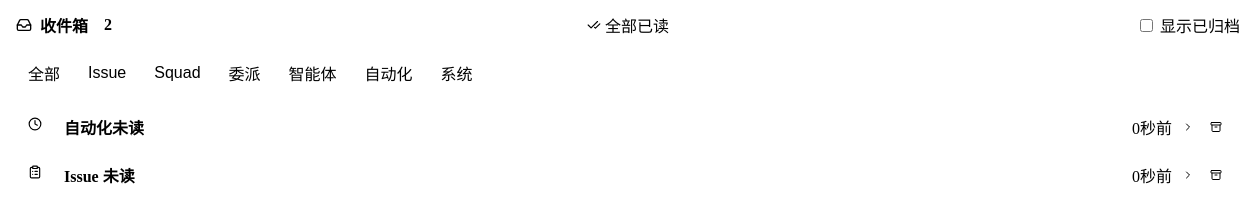
Test: TC-AUDIT-P2-11 收件箱徽标与点击穿透 › 未读徽标按项目整体统计，不随分类筛选变化
expect the text "2" is shown: met, box top-left (104, 16), bottom-right (112, 33)
Click the button "自动化" at (389, 73), box top-left (353, 57), bottom-right (425, 89)
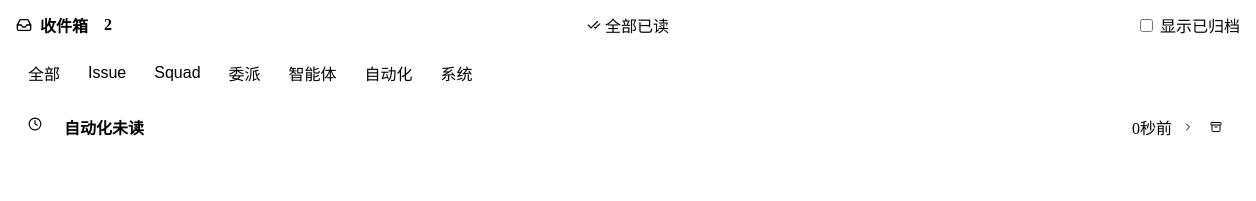
expect the text "自动化未读" is shown: met, box top-left (64, 115), bottom-right (144, 139)
expect the text "Issue 未读" is gone: met
